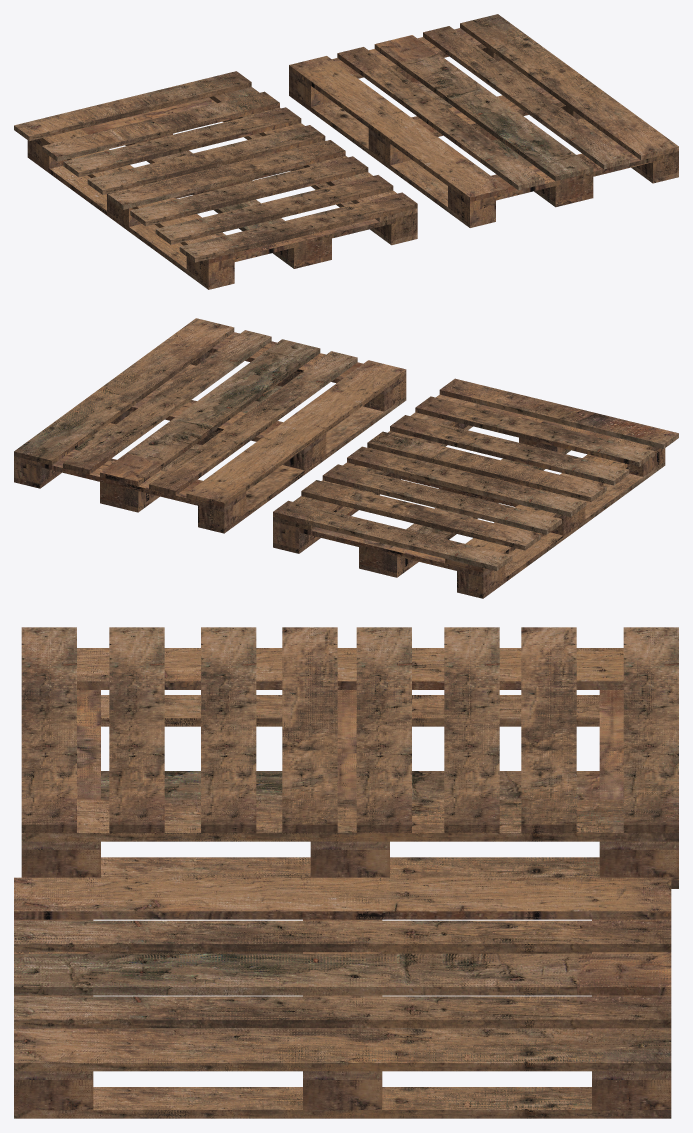
The model's file is Pallets.fbx.
3 views of the same model, one above another, from view 1: azimuth 30°, elevation 25°; view 2: azimuth 150°, elevation 25°; view 3: azimuth 270°, elevation 25° (orthographic). The views are drawn at different scales.
Parts seen in each view (by area): view 1: Group2, Group1; view 2: Group2, Group1; view 3: Group1, Group2.
Part boxes in pixels (x1=…): Group2: x1=14, y1=71, x2=417, y2=289; Group1: x1=289, y1=14, x2=678, y2=227; Group2: x1=273, y1=378, x2=678, y2=598; Group1: x1=14, y1=318, x2=406, y2=533; Group1: x1=14, y1=877, x2=671, y2=1118; Group2: x1=21, y1=627, x2=678, y2=888.
Size of the model in its own units: 1845 by 129 by 1214.
